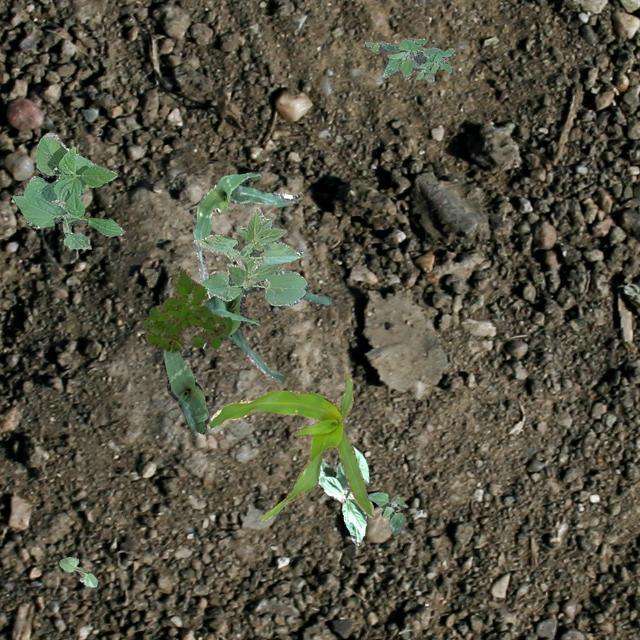crop: (208, 372, 374, 520), (12, 132, 122, 248), (202, 284, 332, 380), (192, 170, 300, 280), (194, 206, 306, 304), (316, 442, 368, 544), (162, 348, 208, 432), (58, 556, 96, 586)
weed: (142, 266, 232, 352), (364, 36, 454, 80), (366, 490, 406, 534)
